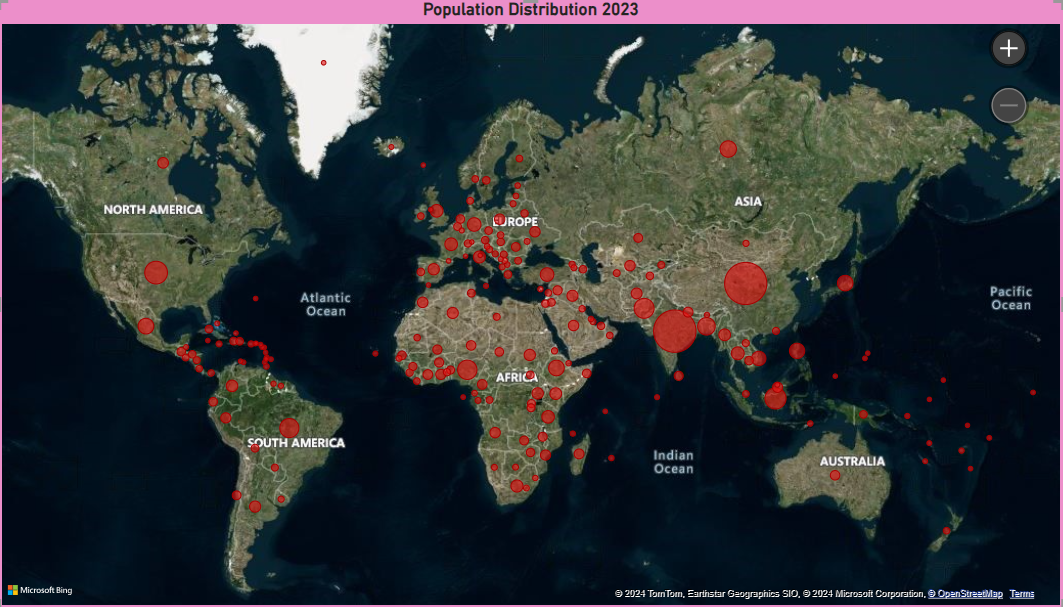

This screenshot's page, from the dashboard's own definition file:
{"tool":"powerbi","page":{"name":"Page 3","canvas":[1280,720],"ordinal":2},"visuals":[{"type":"map","title":"Population Distribution 2023","fields":{"Category":["data_total.Country Name"],"Size":["Sum(data_total.2023)"],"Series":["data_total.Indicator Name"]},"box":[148,48.9,1044.3,598],"z":0}]}

Visuals, with their boxes in screenshot pixels (x1, y1, x2, y2), scaled from the page's 1280x720 canvas onto the 1063x607 screenshot:
"Population Distribution 2023" map: 123:41:990:545
